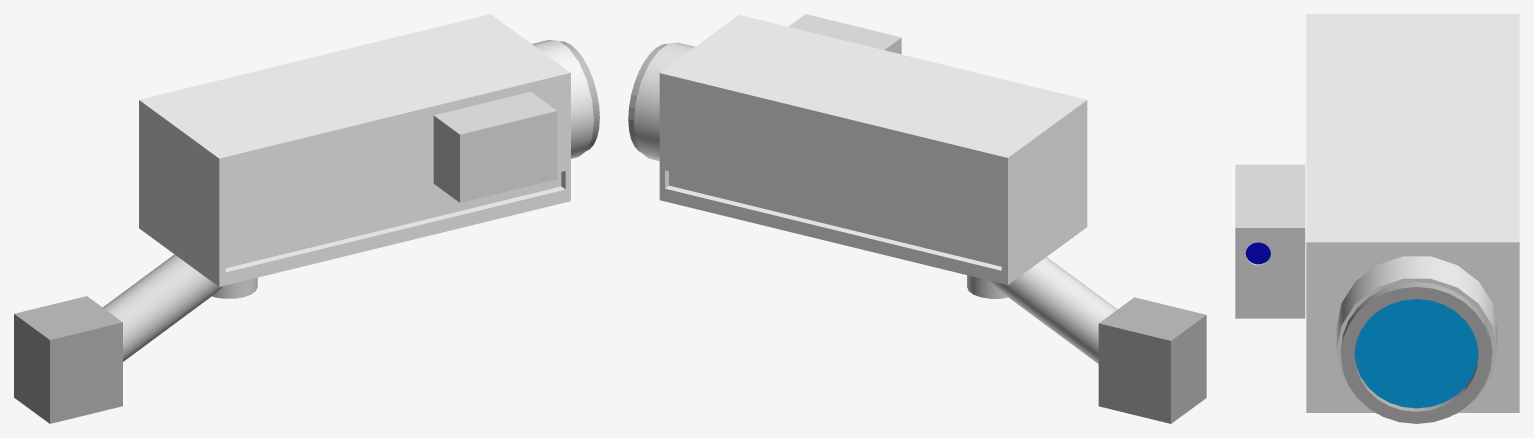
The model's file is Camera.fbx.
3 renders of one model, left to right at view 1: azimuth 30°, elevation 25°; view 2: azimuth 150°, elevation 25°; view 3: azimuth 270°, elevation 25°, orthographic. The views are drawn at different scales.
Parts seen in each view (by area): view 1: Box01, Box03, Box02, Cylinder04, Cylinder01, Donut01, Cylinder03; view 2: Box01, Box03, Cylinder04, Cylinder01, Box02, Donut01, Cylinder03; view 3: Box01, Circle01, Box02, Donut01, Cylinder01, Cylinder02.
Boxes of the visible parts, box(x1,y1,x2,y2) form: Box01: box(139, 14, 570, 286); Box03: box(14, 296, 122, 423); Box02: box(433, 92, 557, 202); Cylinder04: box(103, 254, 221, 361); Cylinder01: box(532, 40, 593, 158); Donut01: box(560, 41, 599, 150); Cylinder03: box(212, 277, 257, 298); Box01: box(659, 15, 1087, 284); Box03: box(1098, 297, 1206, 423); Cylinder04: box(990, 257, 1117, 363); Cylinder01: box(634, 42, 694, 160); Box02: box(788, 14, 901, 54); Donut01: box(628, 44, 667, 151); Cylinder03: box(967, 275, 1007, 298); Box01: box(1306, 14, 1519, 412); Circle01: box(1354, 299, 1478, 408); Box02: box(1235, 164, 1305, 318); Donut01: box(1341, 282, 1492, 423); Cylinder01: box(1336, 256, 1497, 414); Cylinder02: box(1245, 242, 1270, 264).
Size of the model in its own units: 10000 by 4398 by 3440.
